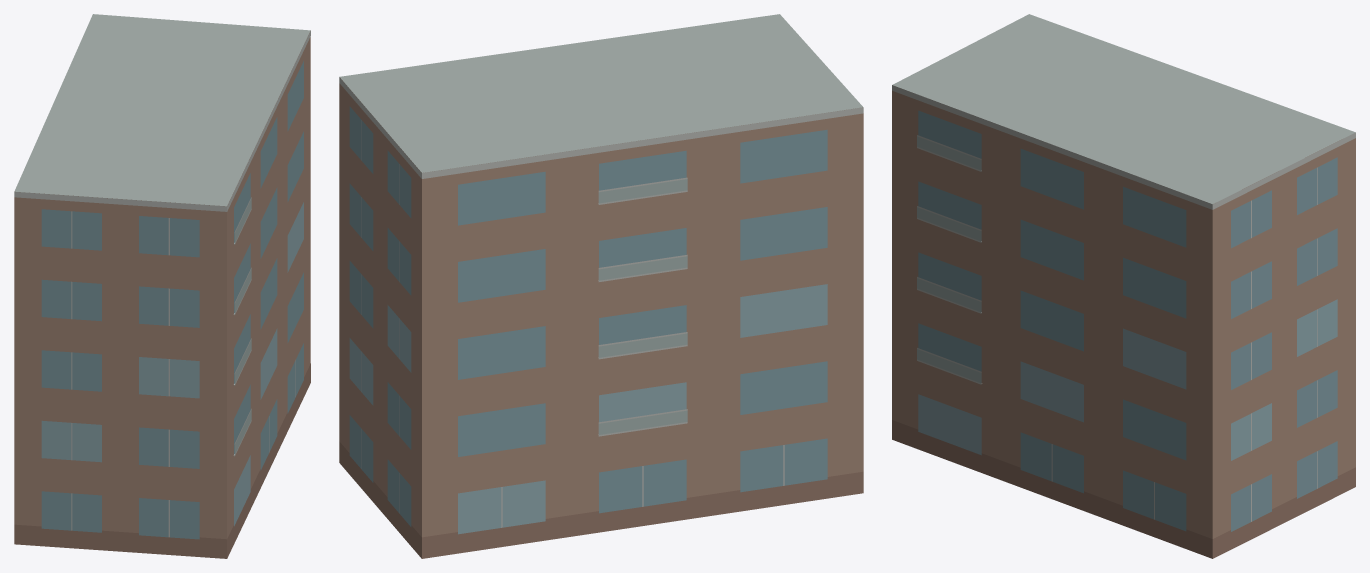
File: survey-upis-32646674.glb
3 renders of one model, left to right at view 1: azimuth 30°, elevation 25°; view 2: azimuth 150°, elevation 25°; view 3: azimuth 270°, elevation 25°, orthographic. The views are drawn at different scales.
Parts seen in each view (by area): view 1: survey-upis-32646674.tmp; view 2: survey-upis-32646674.tmp; view 3: survey-upis-32646674.tmp.
Part boxes in pixels (left/top/right/bottom): survey-upis-32646674.tmp: left=14, top=14, right=310, bottom=558; survey-upis-32646674.tmp: left=339, top=14, right=863, bottom=558; survey-upis-32646674.tmp: left=892, top=14, right=1355, bottom=558.
Bounding box in the file's own units: 17.55 × 15.25 × 18.08.
